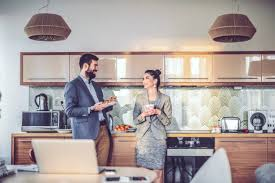Bad: (64, 54, 172, 139)
